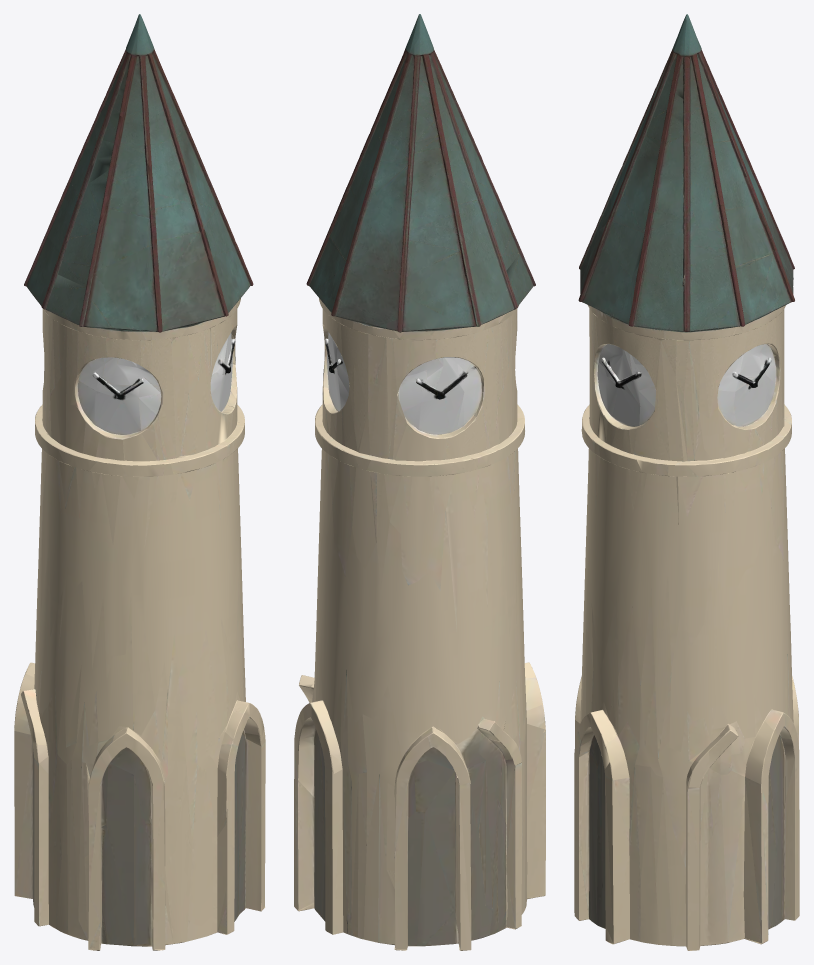
File: clock-tower.glb
3 renders of one model, left to right at view 1: azimuth 30°, elevation 25°; view 2: azimuth 150°, elevation 25°; view 3: azimuth 270°, elevation 25°, orthographic.
Visible parts, largest first — view 1: Mesh_0; view 2: Mesh_0; view 3: Mesh_0.
Boxes of the visible parts, bbox=[...] form: Mesh_0: bbox=[14, 14, 265, 950]; Mesh_0: bbox=[294, 14, 545, 950]; Mesh_0: bbox=[574, 14, 799, 950].
Size of the model in its own units: 0.4579 by 1.9 by 0.4377.
1 material, 1 textured.
